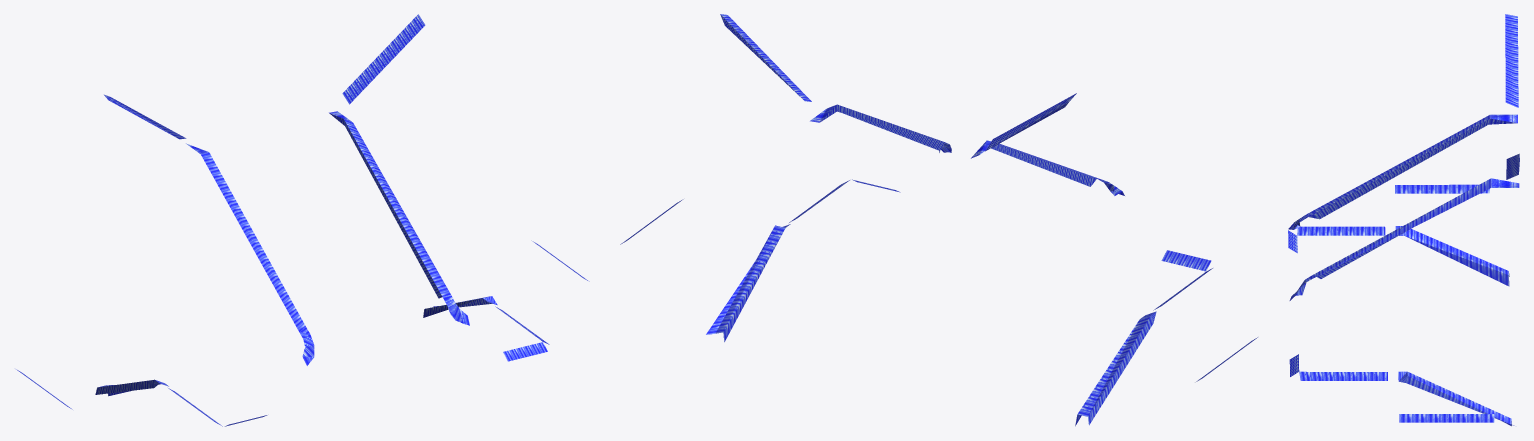
3 views of the same model, side by side, from view 1: azimuth 30°, elevation 25°; view 2: azimuth 150°, elevation 25°; view 3: azimuth 270°, elevation 25° (orthographic). The views are drawn at different scales.
Size of the model in its own units: 0.8266 by 0.4522 by 0.3486.
1 material, 1 textured.
